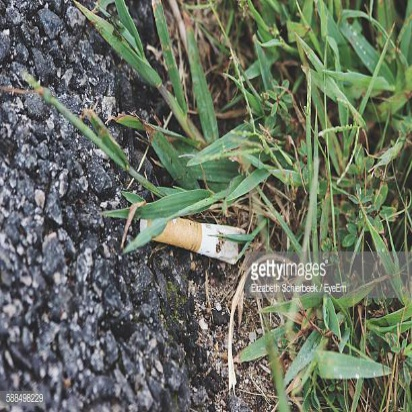cigarette: (141, 214, 253, 265)
